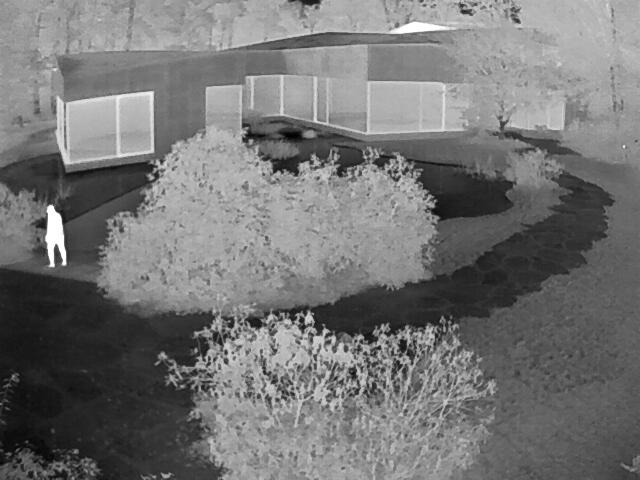person: (42, 204, 67, 267)
